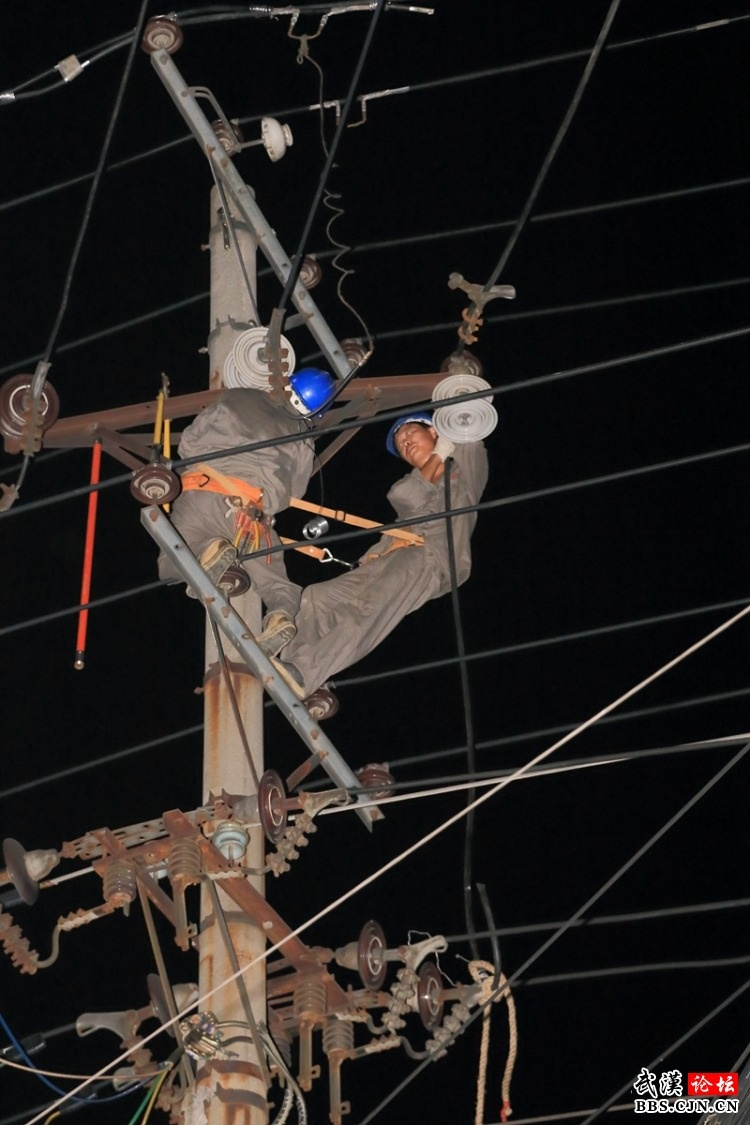blue: (380, 406, 439, 468), (283, 367, 340, 425)
